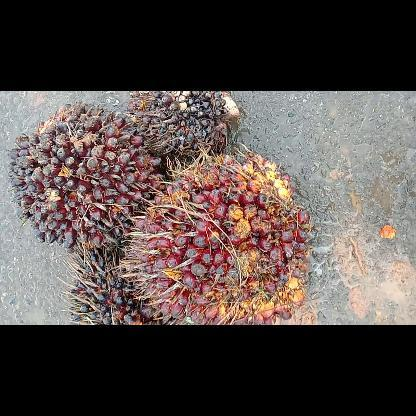Kurang masak: (7, 102, 163, 250)
TBS abnormal: (67, 248, 168, 324), (127, 92, 239, 152)
TBS masak: (124, 154, 310, 324)
